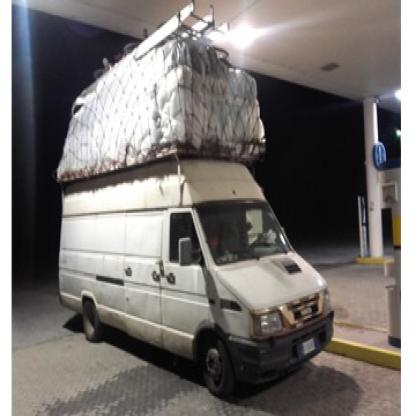overloaded-truck: (55, 32, 268, 173)
